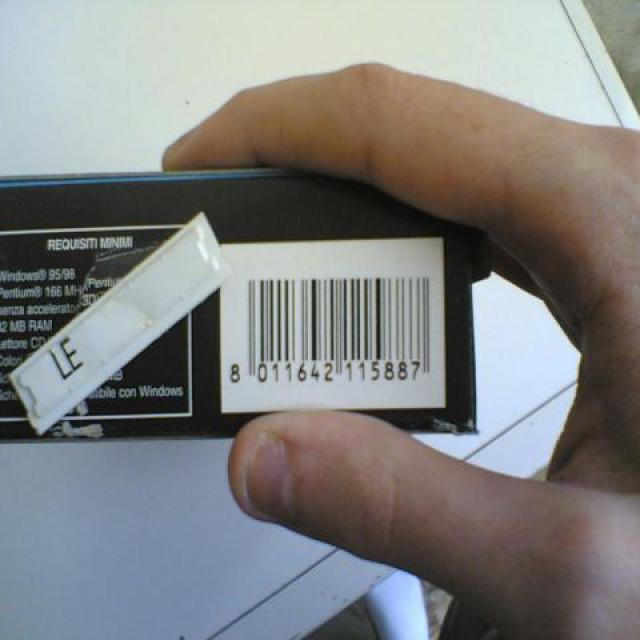Barcode: (217, 235, 447, 414)
